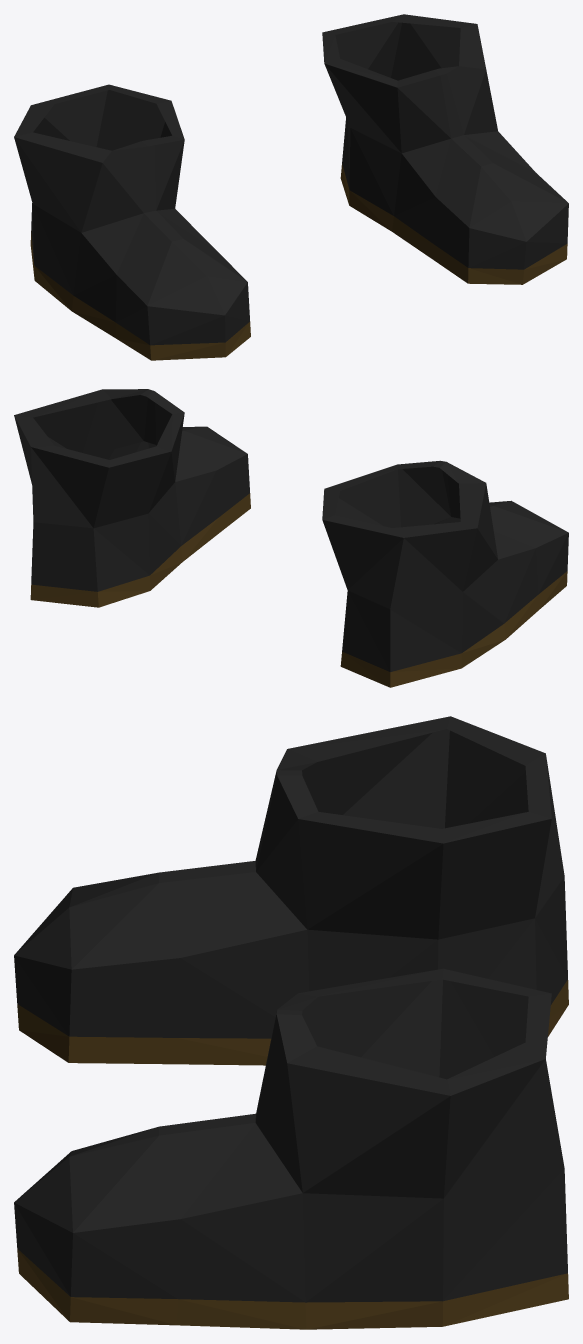
Rendered from RogueFeet.dae.
The picture shows the model from 3 angles, top to bottom: view 1: azimuth 30°, elevation 25°; view 2: azimuth 150°, elevation 25°; view 3: azimuth 270°, elevation 25°; orthographic projection. The views are drawn at different scales.
Parts seen in each view (by area): view 1: Feet; view 2: Feet; view 3: Feet.
Part boxes in pixels (box(x1,y1,x2,y2)): Feet: box(14, 14, 568, 360); Feet: box(14, 389, 568, 687); Feet: box(14, 716, 568, 1329).
Size of the model in its own units: 2.78 by 1.72 by 0.8858.
